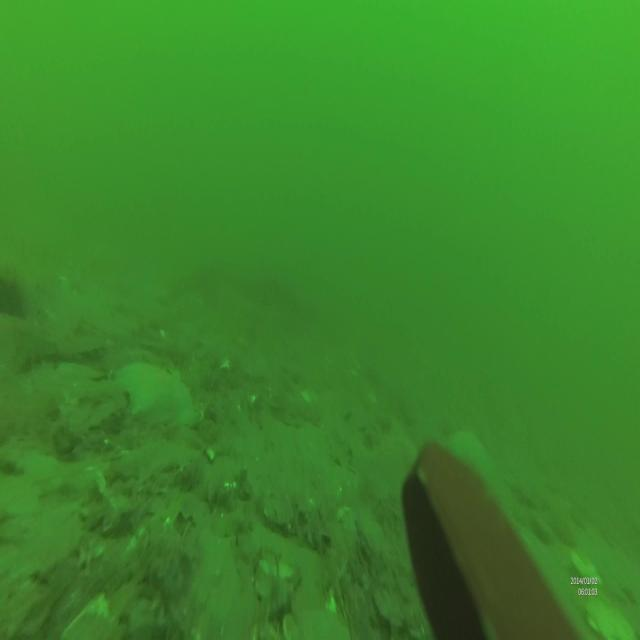echinus: (1, 272, 26, 323)
holothurian: (26, 333, 104, 370)
starfish: (114, 357, 195, 428)
